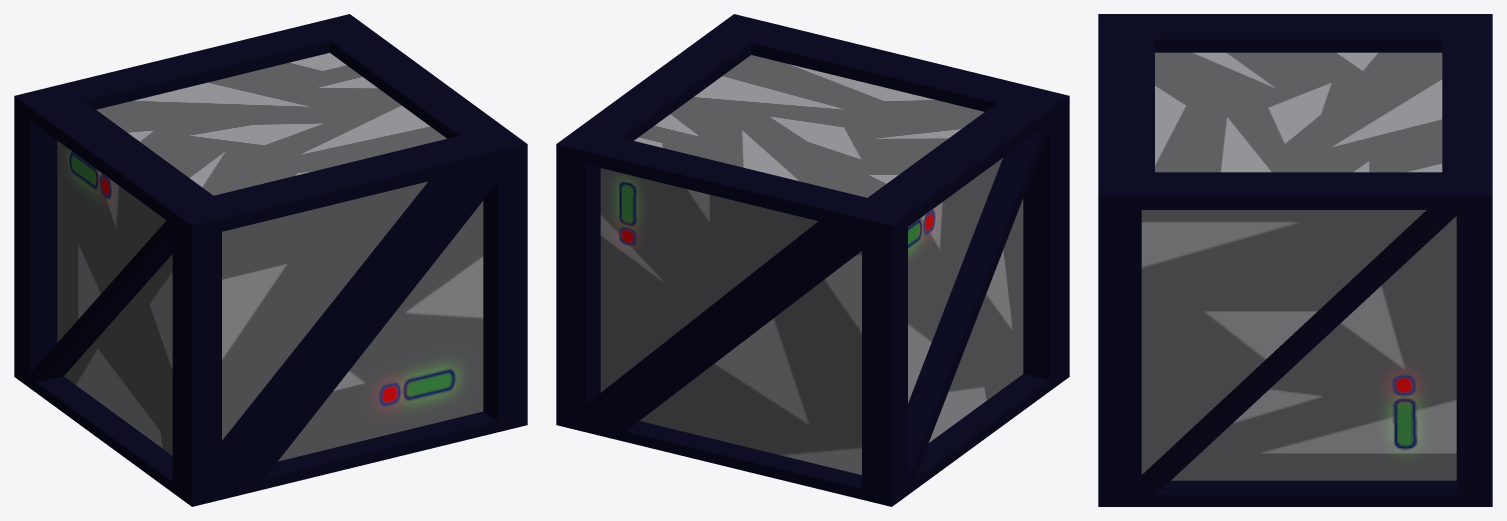
File: PRSW_CajaG.FBX
3 views of the same model, side by side, from view 1: azimuth 30°, elevation 25°; view 2: azimuth 150°, elevation 25°; view 3: azimuth 270°, elevation 25° (orthographic). The views are drawn at different scales.
Parts seen in each view (by area): view 1: PRSW_CajaG; view 2: PRSW_CajaG; view 3: PRSW_CajaG.
Boxes of the visible parts, x1,y1,x2,y2 form: PRSW_CajaG: [14, 14, 527, 506]; PRSW_CajaG: [556, 14, 1069, 506]; PRSW_CajaG: [1098, 14, 1492, 506].
Bounding box in the file's own units: 2.38 × 1.9 × 2.18.
